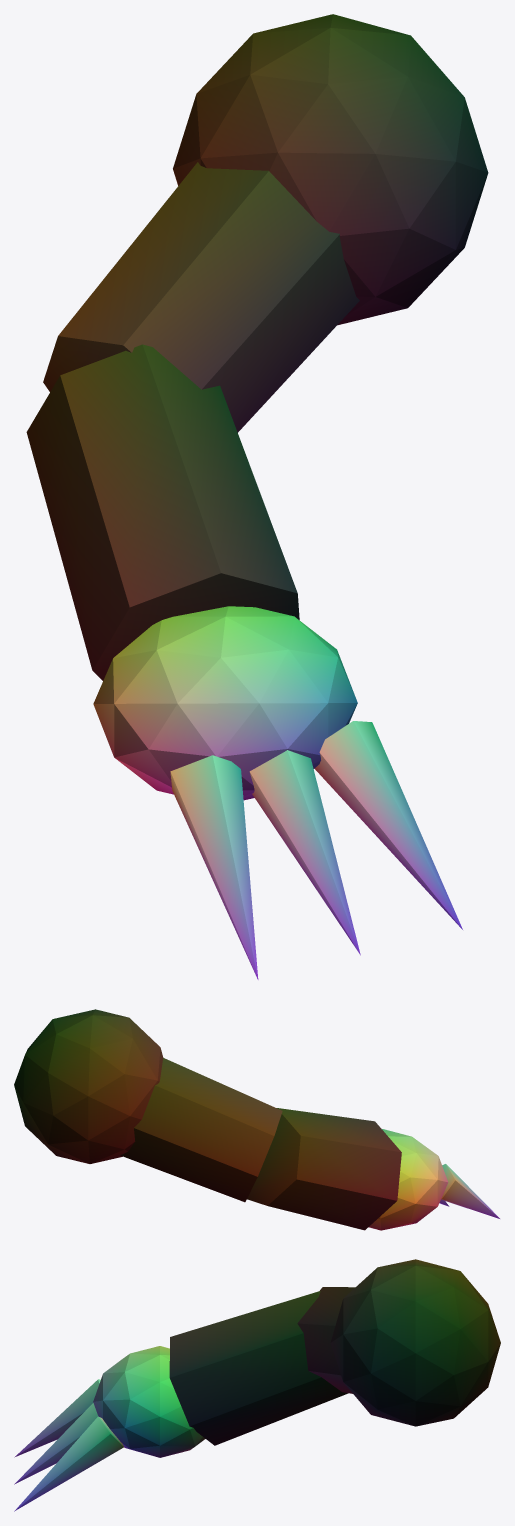
The model's file is Claw.fbx.
3 views of the same model, one above another, from view 1: azimuth 30°, elevation 25°; view 2: azimuth 150°, elevation 25°; view 3: azimuth 270°, elevation 25° (orthographic). The views are drawn at different scales.
Parts seen in each view (by area): view 1: Claw; view 2: Claw; view 3: Claw.
Part boxes in pixels (x1,y1,x2,y2): Claw: (26,14,488,979); Claw: (14,1009,499,1230); Claw: (14,1259,500,1511).
Size of the model in its own units: 0.5973 by 0.56 by 0.8.
